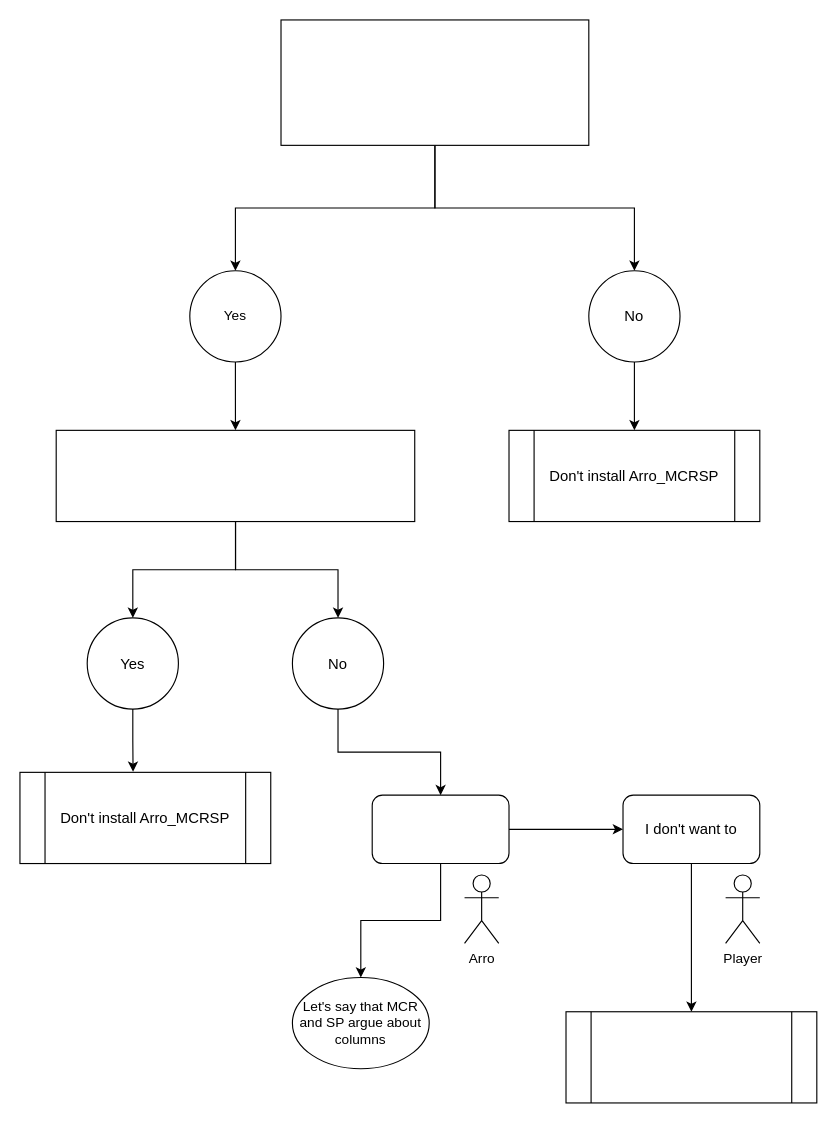
Image size: 837x1123. Some labels were removed from this diagram. The shapes that lost their labels are listed below. From the top down, each one's centre as x and y in pixels, then its label:
(434,82): Are you using Smooth Patch as .package file?
(235,475): Are you using Master Controller (with integration)?
(440,829): You should
(691,1057): Install Arro_MCRSP
